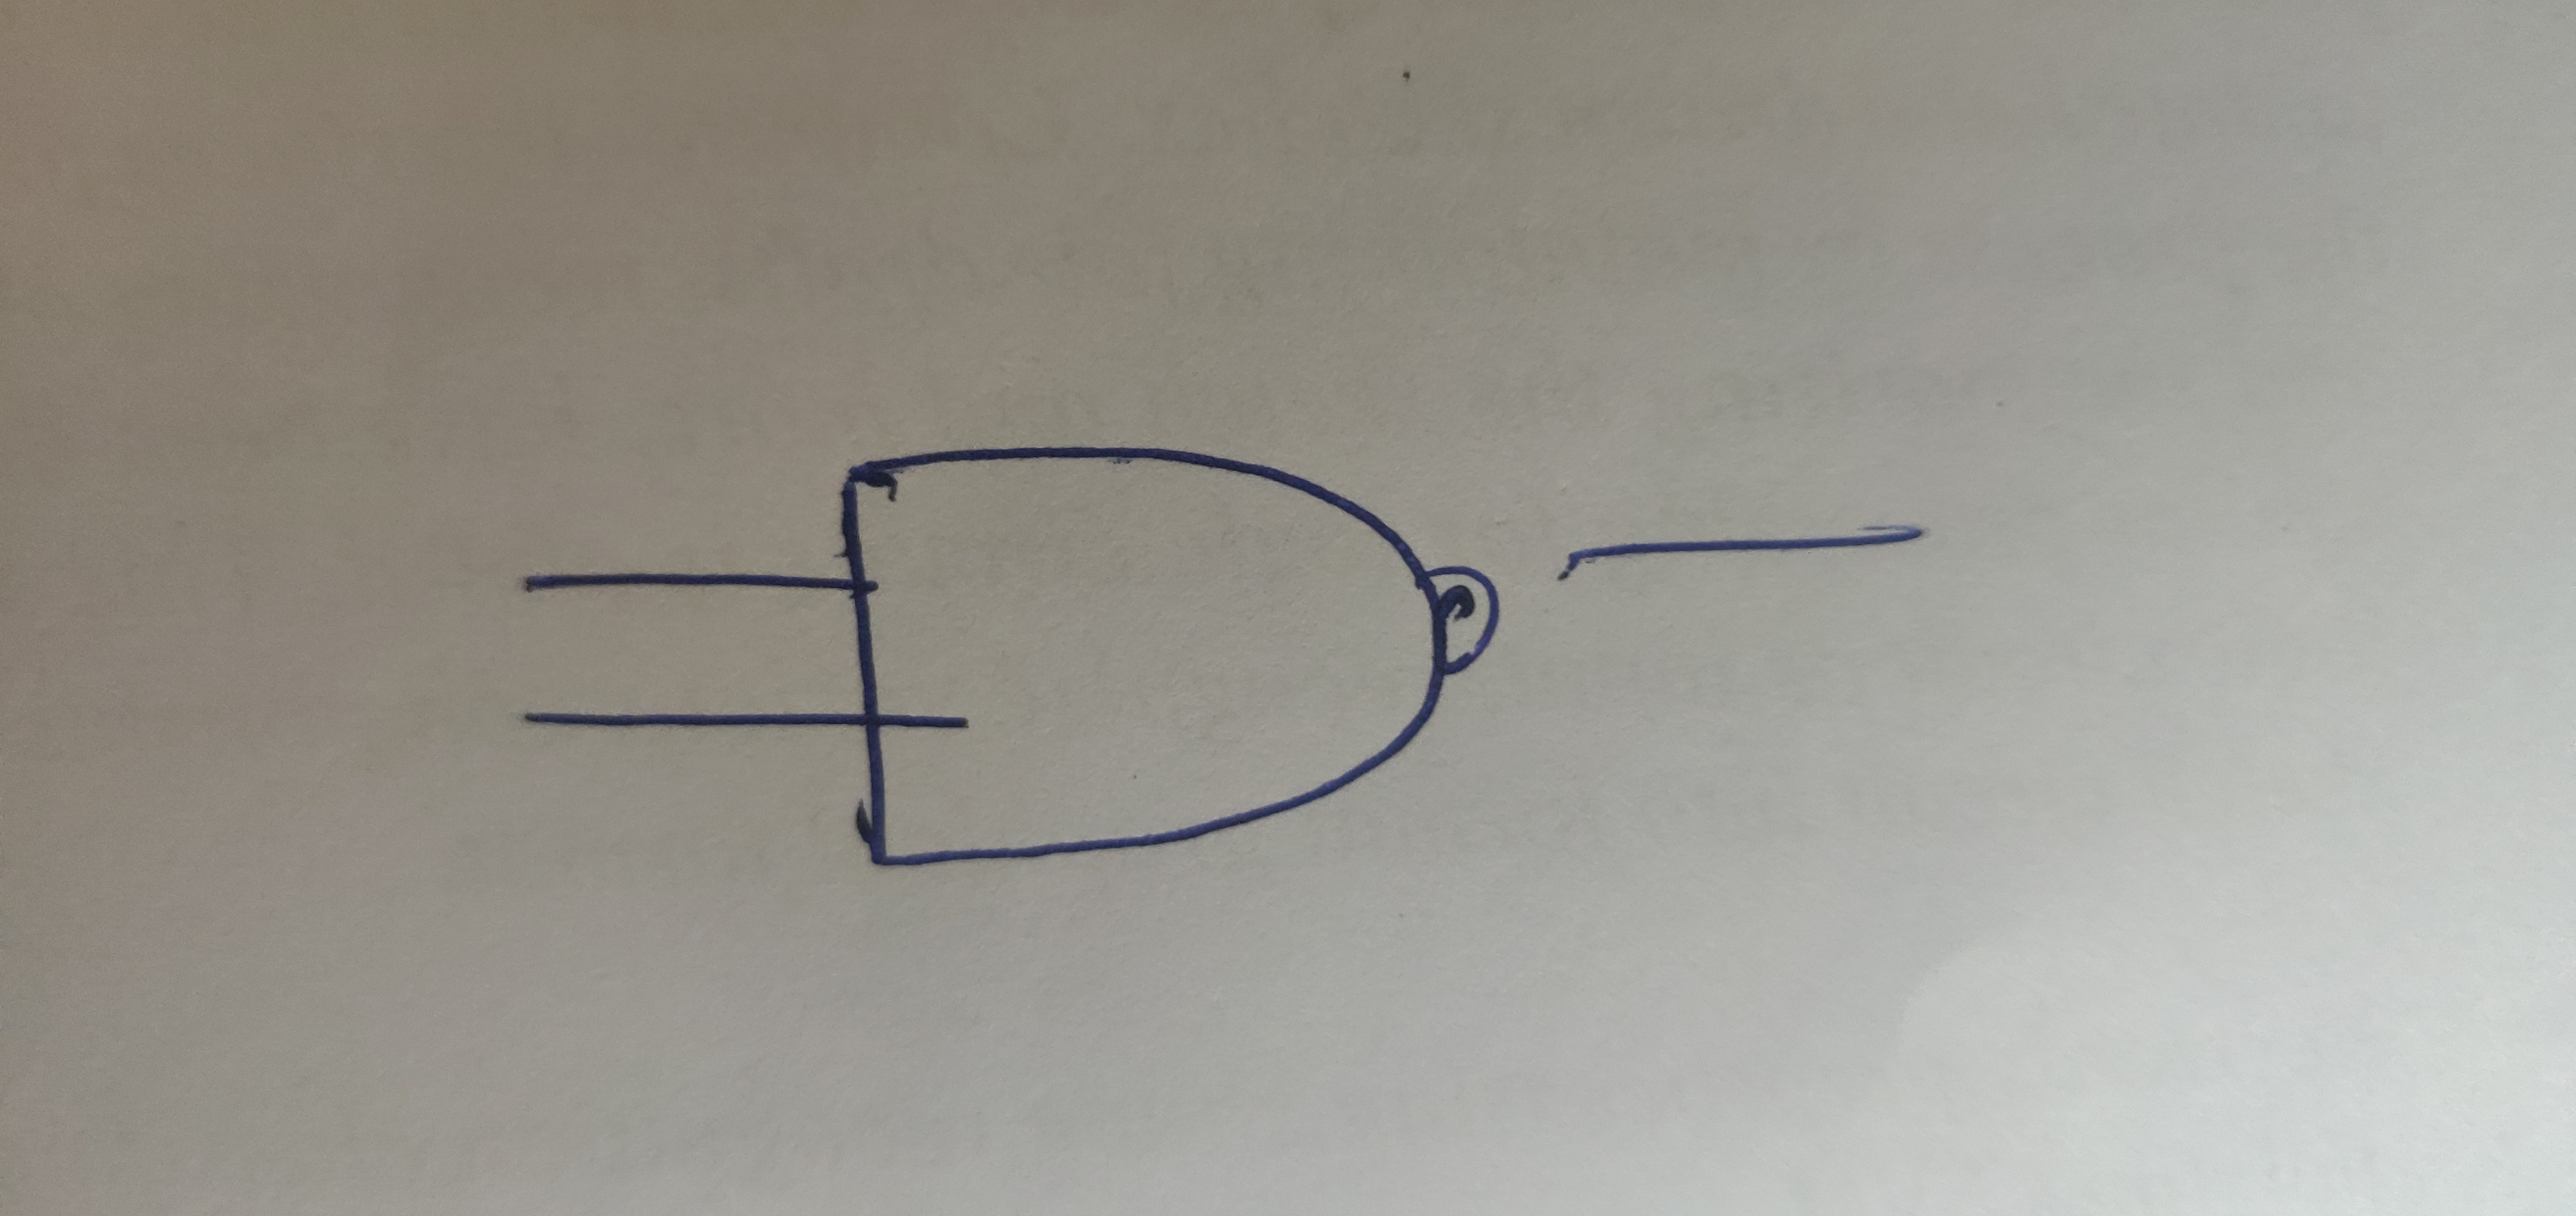nand: (746, 378, 1649, 917)
